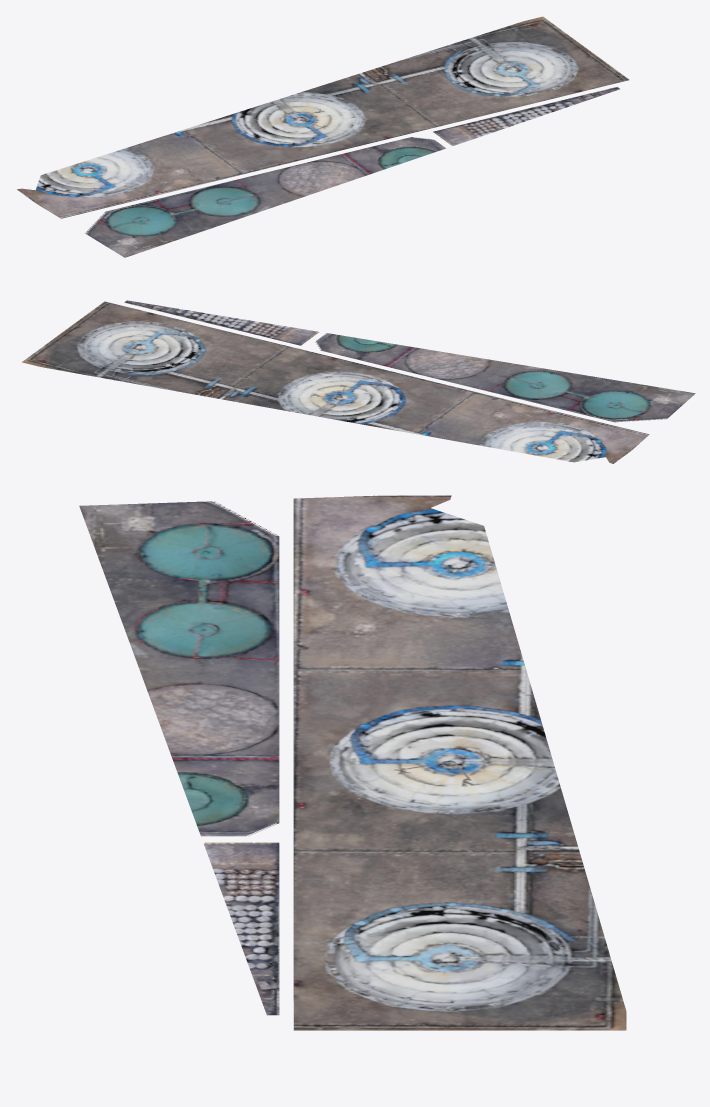
3 views of the same model, one above another, from view 1: azimuth 30°, elevation 25°; view 2: azimuth 150°, elevation 25°; view 3: azimuth 270°, elevation 25° (orthographic). The views are drawn at different scales.
Visible parts, largest first — view 1: line002; view 2: line002; view 3: line002.
Part boxes in pixels (bbox=[...]): line002: bbox=[17, 16, 629, 257]; line002: bbox=[22, 300, 695, 463]; line002: bbox=[79, 495, 626, 1030].
Size of the model in its own units: 44235 by 17197 by 0.0028.
